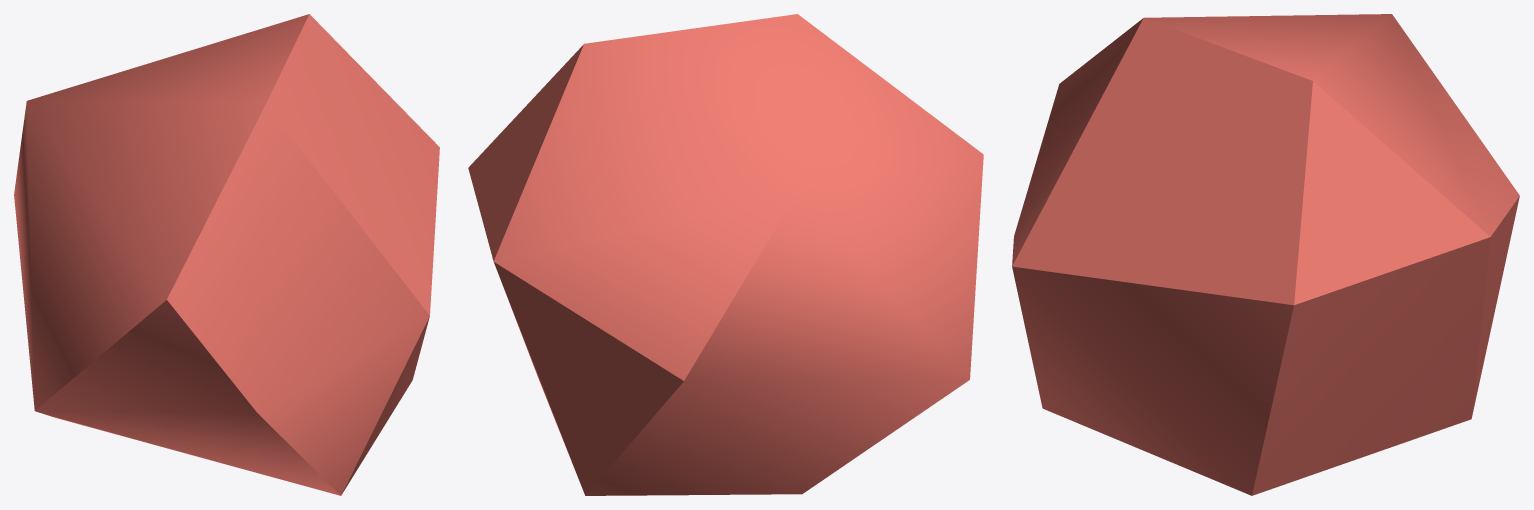
File: Rock_01.glb
3 views of the same model, side by side, from view 1: azimuth 30°, elevation 25°; view 2: azimuth 150°, elevation 25°; view 3: azimuth 270°, elevation 25° (orthographic). The views are drawn at different scales.
Visible parts, largest first — view 1: Rock_01; view 2: Rock_01; view 3: Rock_01.
Part boxes in pixels (x1,y1,x2,y2): Rock_01: [14, 14, 439, 495]; Rock_01: [468, 14, 983, 495]; Rock_01: [1012, 14, 1519, 495].
Size of the model in its own units: 39.81 by 30.99 by 37.79.
